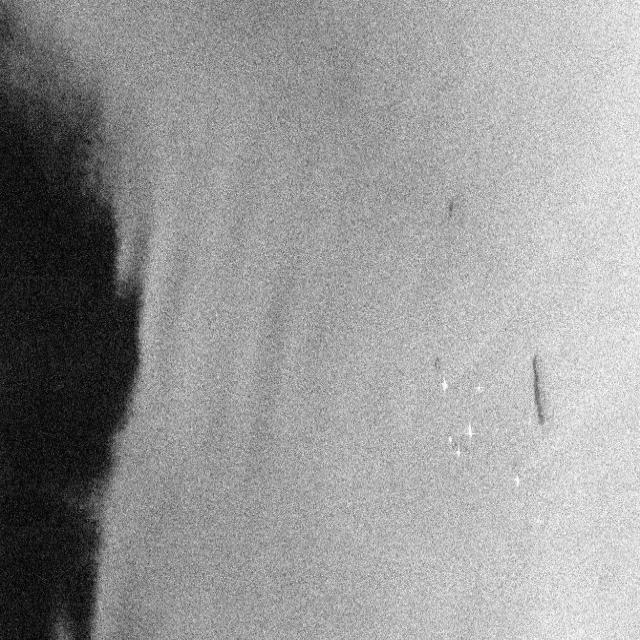look-alike: (1, 36, 140, 640)
oil-spill: (529, 352, 555, 428)
ship: (437, 370, 452, 401), (465, 418, 478, 447), (512, 467, 524, 493), (444, 430, 456, 450), (454, 444, 464, 467), (475, 381, 484, 400)
